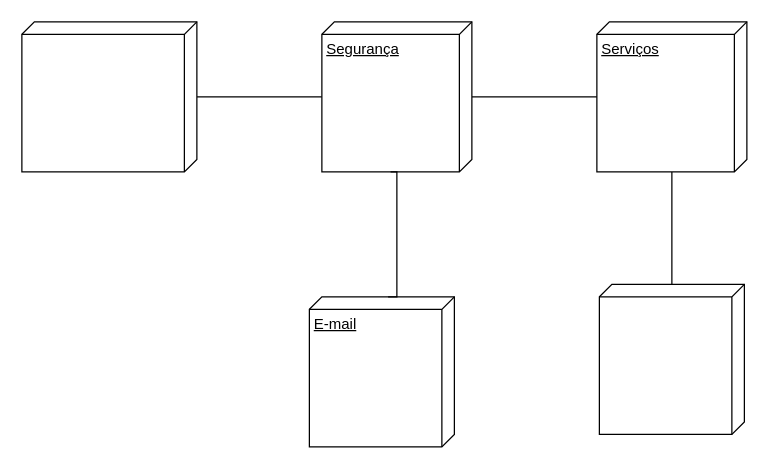
This 769x469 diagram has some shape labels left out. The shapes that lost their labels are listed below. From the top down, each one's centre as x and y in pixels, then its label:
the point at 109,96: Desktop Client
the point at 671,358: SGBD
